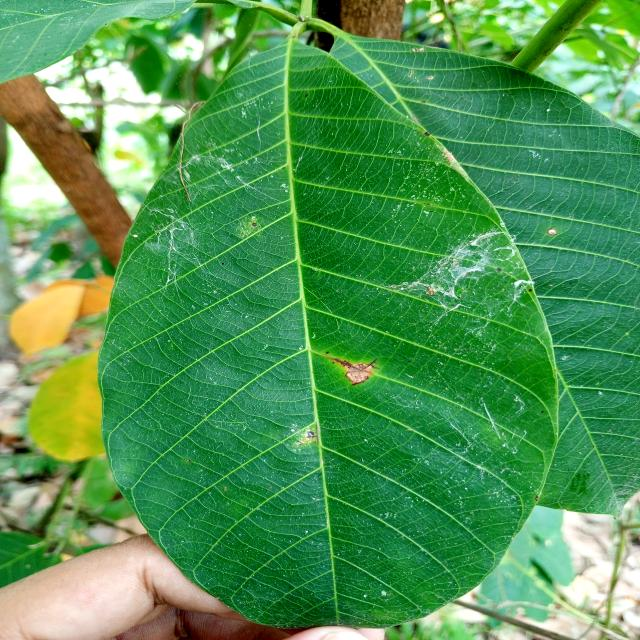Colletotrichum: (546, 228, 557, 236), (252, 223, 257, 227), (365, 376, 368, 379), (362, 367, 365, 369)
Corynespora: (325, 358, 380, 386), (364, 358, 379, 370)
